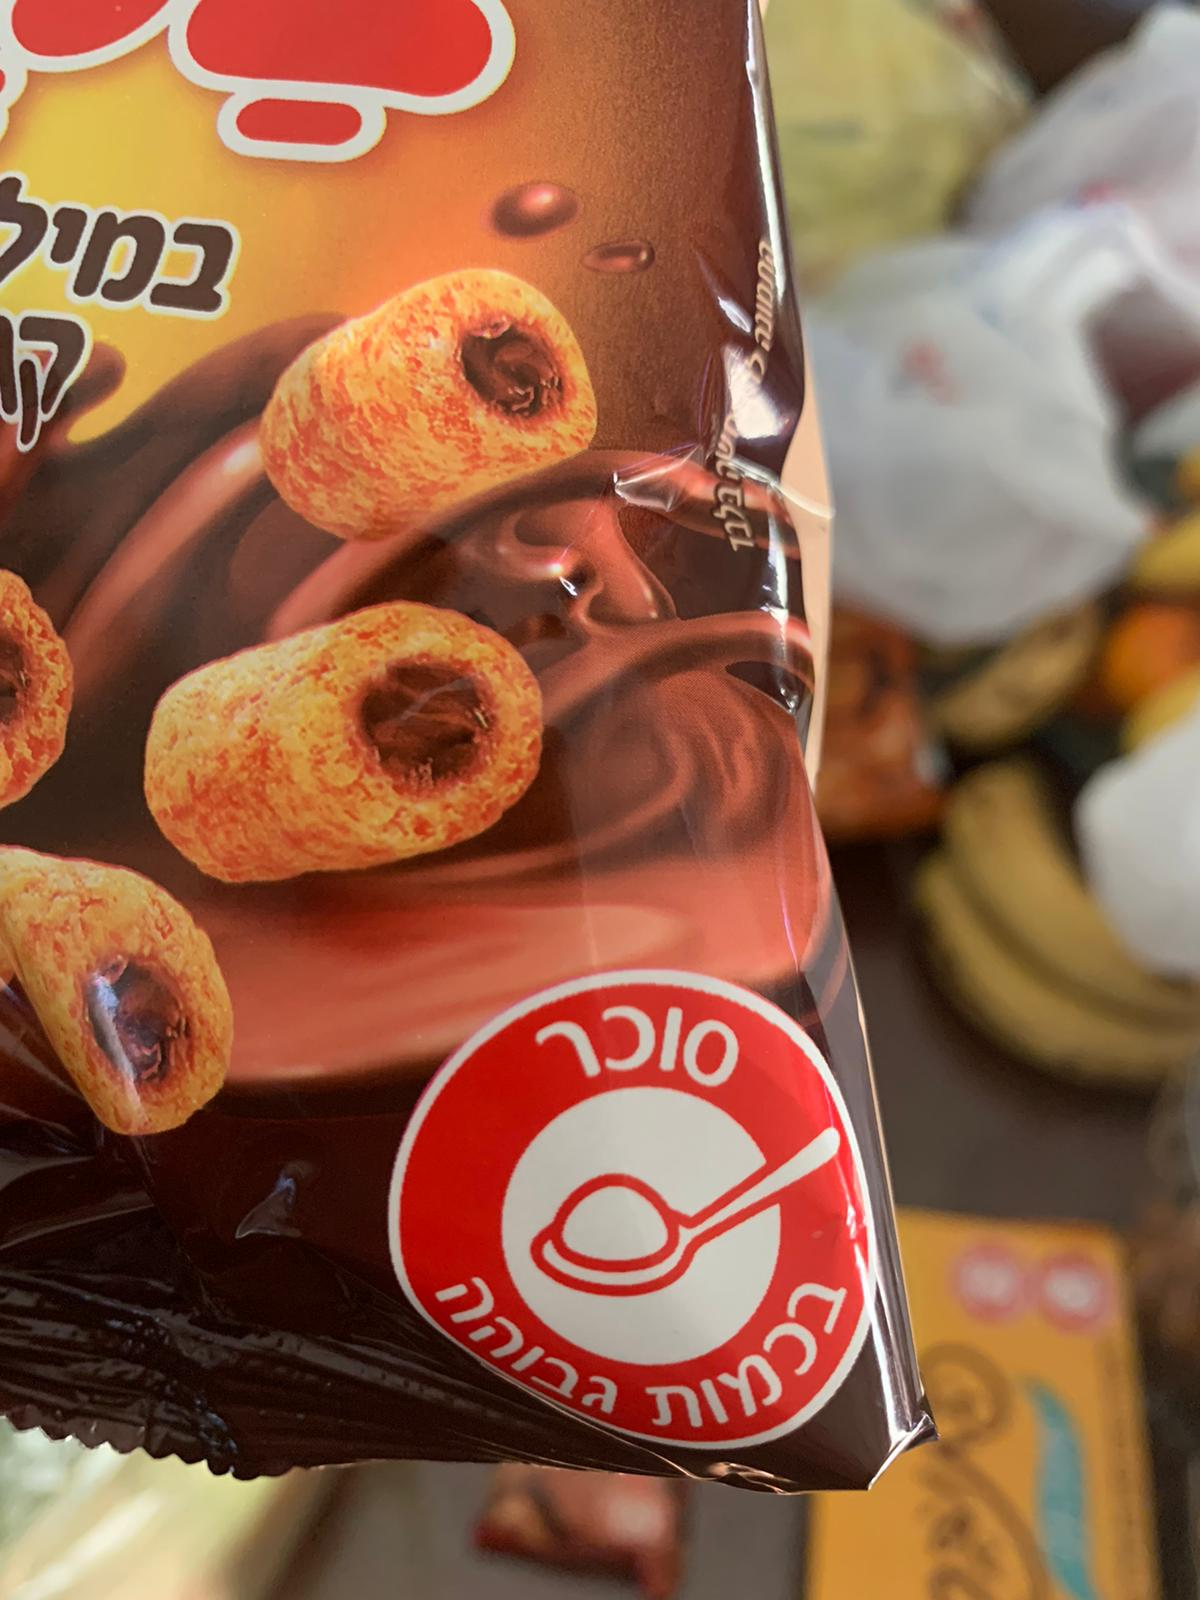sugar: (382, 965, 876, 1455)
